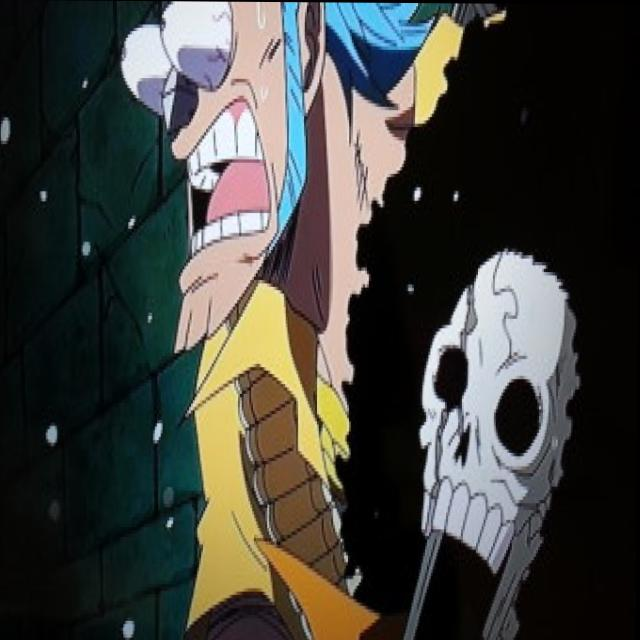Blook: (345, 17, 640, 640)
Franky: (128, 1, 438, 349)
